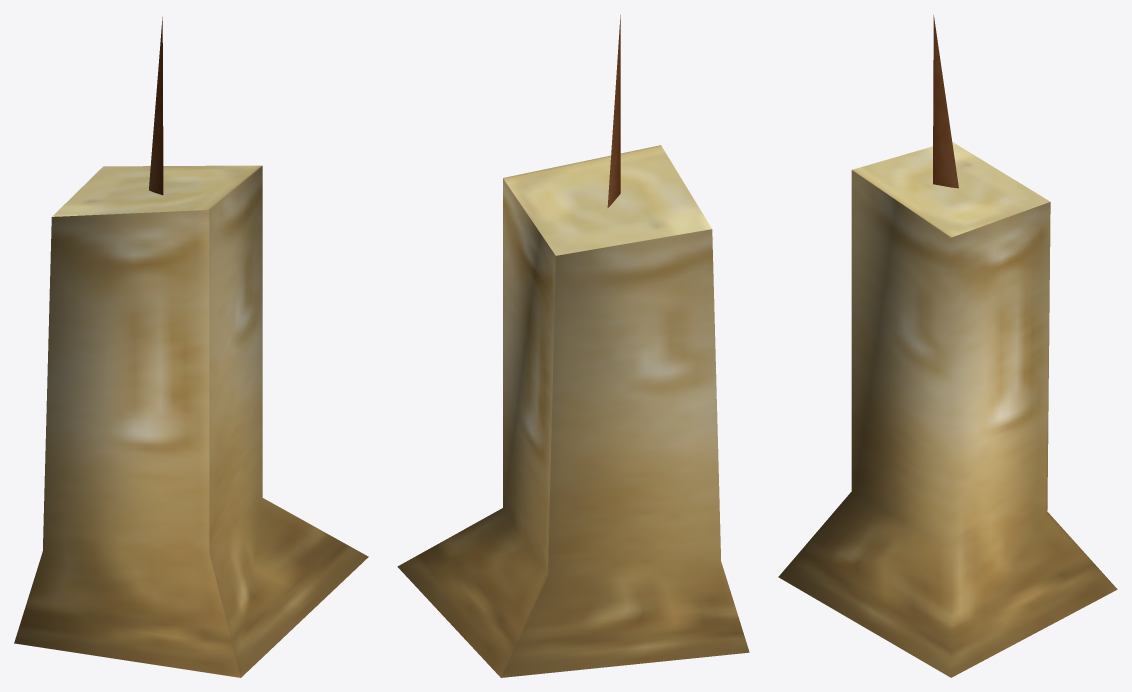
The model's file is LaZhu02.FBX.
3 views of the same model, side by side, from view 1: azimuth 30°, elevation 25°; view 2: azimuth 150°, elevation 25°; view 3: azimuth 270°, elevation 25° (orthographic). The views are drawn at different scales.
Parts seen in each view (by area): view 1: LaZhu02; view 2: LaZhu02; view 3: LaZhu02.
Part boxes in pixels (bbox=[...]): LaZhu02: bbox=[14, 17, 368, 677]; LaZhu02: bbox=[397, 15, 749, 677]; LaZhu02: bbox=[778, 15, 1117, 677].
Bounding box in the file's own units: 6.73 × 10.91 × 5.94.
